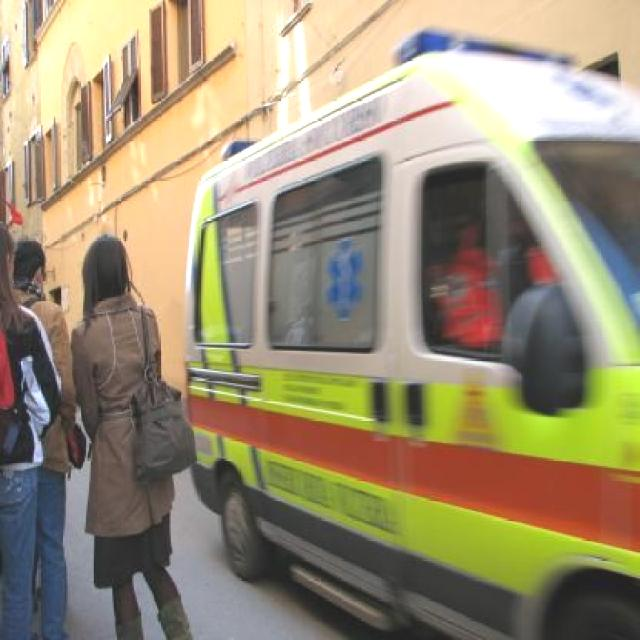Van: (169, 15, 640, 640)
